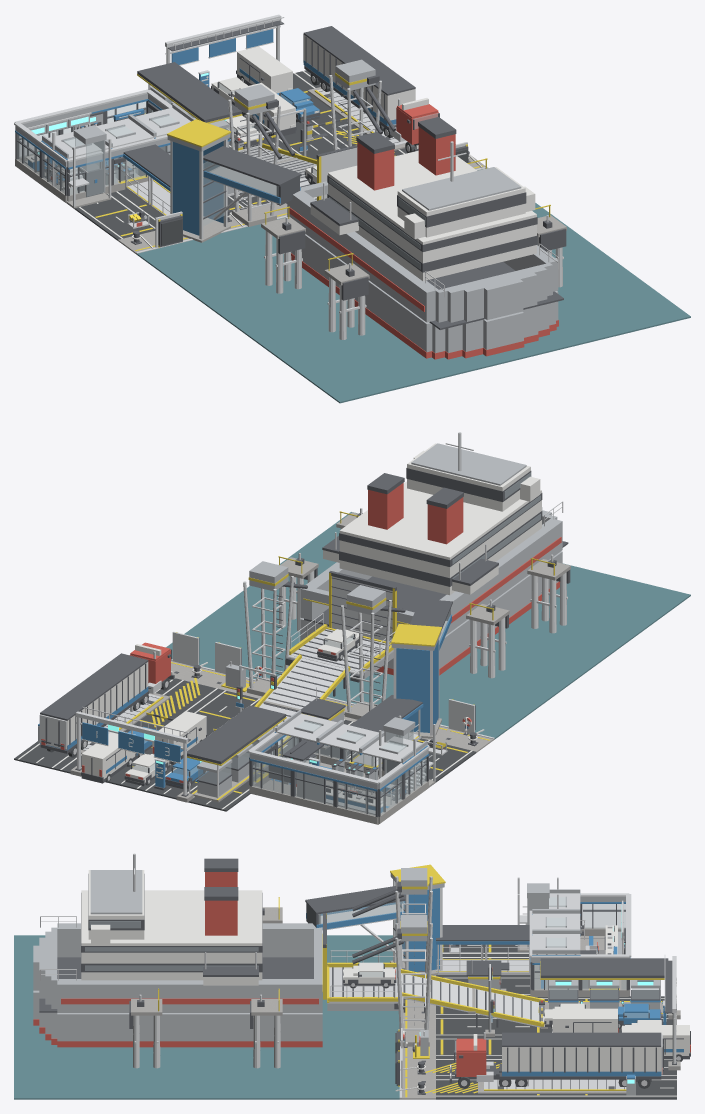
File: ferry-terminal-and-harbour-crossing-ferr-05f91843-starter-scene__35663.glb
3 views of the same model, one above another, from view 1: azimuth 30°, elevation 25°; view 2: azimuth 150°, elevation 25°; view 3: azimuth 270°, elevation 25° (orthographic). The views are drawn at different scales.
Visible parts, largest first — view 1: 096-ferry-terminal-and-harbour-crossing-ro-ro-ferry-stern-se (×6), 090-ferry-terminal-and-harbour-crossing-gangway-tower-and-wa (×5), 003-ferry-terminal-and-harbour-crossing-harbour-water-tile/0, 015-ferry-terminal-and-harbour-crossing-harbour-water-tile/0, 000-ferry-terminal-and-harbour-crossing-harbour-water-tile/0, 001-ferry-terminal-and-harbour-crossing-harbour-water-tile/0, 002-ferry-terminal-and-harbour-crossing-harbour-water-tile/0, 081-ferry-terminal-and-harbour-crossing-lift-and-stair-core/ (×4), 094-ferry-terminal-and-harbour-crossing-linkspan-hydraulic-t (×3), 113-ferry-terminal-and-harbour-crossing-check-in-booth-run/3, 128-ferry-terminal-and-harbour-crossing-freight-trailer/0, 014-ferry-terminal-and-harbour-crossing-harbour-water-tile/0 (+22 smaller); view 2: 096-ferry-terminal-and-harbour-crossing-ro-ro-ferry-stern-se (×6), 090-ferry-terminal-and-harbour-crossing-gangway-tower-and-wa (×4), 003-ferry-terminal-and-harbour-crossing-harbour-water-tile/0, 002-ferry-terminal-and-harbour-crossing-harbour-water-tile/0, 001-ferry-terminal-and-harbour-crossing-harbour-water-tile/0, 128-ferry-terminal-and-harbour-crossing-freight-trailer/0, 113-ferry-terminal-and-harbour-crossing-check-in-booth-run/3, 000-ferry-terminal-and-harbour-crossing-harbour-water-tile/0, 094-ferry-terminal-and-harbour-crossing-linkspan-hydraulic-t (×2), 095-ferry-terminal-and-harbour-crossing-linkspan-hydraulic-t (×2), 013-ferry-terminal-and-harbour-crossing-harbour-water-tile/0, 012-ferry-terminal-and-harbour-crossing-harbour-water-tile/0 (+38 smaller); view 3: 096-ferry-terminal-and-harbour-crossing-ro-ro-ferry-stern-se (×6), 090-ferry-terminal-and-harbour-crossing-gangway-tower-and-wa (×4), 015-ferry-terminal-and-harbour-crossing-harbour-water-tile/0, 012-ferry-terminal-and-harbour-crossing-harbour-water-tile/0, 013-ferry-terminal-and-harbour-crossing-harbour-water-tile/0, 014-ferry-terminal-and-harbour-crossing-harbour-water-tile/0, 128-ferry-terminal-and-harbour-crossing-freight-trailer/0, 128-ferry-terminal-and-harbour-crossing-freight-trailer/1, 113-ferry-terminal-and-harbour-crossing-check-in-booth-run/3, 008-ferry-terminal-and-harbour-crossing-harbour-water-tile/0, 095-ferry-terminal-and-harbour-crossing-linkspan-hydraulic-t (×3), 094-ferry-terminal-and-harbour-crossing-linkspan-hydraulic-t (×3) (+43 smaller).
Boxes of the visible parts, x1,y1,x2,y2 form: 096-ferry-terminal-and-harbour-crossing-ro-ro-ferry-stern-se (×6): [287, 117, 563, 359]; 090-ferry-terminal-and-harbour-crossing-gangway-tower-and-wa (×5): [167, 119, 301, 239]; 003-ferry-terminal-and-harbour-crossing-harbour-water-tile/0: [289, 343, 427, 403]; 015-ferry-terminal-and-harbour-crossing-harbour-water-tile/0: [558, 279, 690, 338]; 000-ferry-terminal-and-harbour-crossing-harbour-water-tile/0: [137, 232, 275, 291]; 001-ferry-terminal-and-harbour-crossing-harbour-water-tile/0: [188, 269, 325, 328]; 002-ferry-terminal-and-harbour-crossing-harbour-water-tile/0: [238, 306, 376, 365]; 081-ferry-terminal-and-harbour-crossing-lift-and-stair-core/ (×4): [52, 123, 111, 206]; 094-ferry-terminal-and-harbour-crossing-linkspan-hydraulic-t (×3): [228, 84, 294, 221]; 113-ferry-terminal-and-harbour-crossing-check-in-booth-run/3: [137, 62, 241, 140]; 128-ferry-terminal-and-harbour-crossing-freight-trailer/0: [303, 26, 415, 130]; 014-ferry-terminal-and-harbour-crossing-harbour-water-tile/0: [552, 242, 639, 297]; 096-ferry-terminal-and-harbour-crossing-ro-ro-ferry-stern-se (×6): [300, 443, 568, 675]; 090-ferry-terminal-and-harbour-crossing-gangway-tower-and-wa (×4): [391, 599, 452, 735]; 003-ferry-terminal-and-harbour-crossing-harbour-water-tile/0: [557, 574, 690, 631]; 002-ferry-terminal-and-harbour-crossing-harbour-water-tile/0: [508, 610, 641, 667]; 001-ferry-terminal-and-harbour-crossing-harbour-water-tile/0: [459, 646, 592, 703]; 128-ferry-terminal-and-harbour-crossing-freight-trailer/0: [40, 653, 149, 753]; 113-ferry-terminal-and-harbour-crossing-check-in-booth-run/3: [187, 705, 285, 785]; 000-ferry-terminal-and-harbour-crossing-harbour-water-tile/0: [439, 681, 543, 739]; 094-ferry-terminal-and-harbour-crossing-linkspan-hydraulic-t (×2): [341, 585, 391, 712]; 095-ferry-terminal-and-harbour-crossing-linkspan-hydraulic-t (×2): [243, 561, 293, 688]; 013-ferry-terminal-and-harbour-crossing-harbour-water-tile/0: [204, 585, 299, 639]; 012-ferry-terminal-and-harbour-crossing-harbour-water-tile/0: [166, 619, 286, 671]; 096-ferry-terminal-and-harbour-crossing-ro-ro-ferry-stern-se (×6): [33, 853, 322, 1047]; 090-ferry-terminal-and-harbour-crossing-gangway-tower-and-wa (×4): [305, 880, 442, 972]; 015-ferry-terminal-and-harbour-crossing-harbour-water-tile/0: [14, 1057, 110, 1099]; 012-ferry-terminal-and-harbour-crossing-harbour-water-tile/0: [303, 1057, 399, 1099]; 013-ferry-terminal-and-harbour-crossing-harbour-water-tile/0: [207, 1057, 303, 1099]; 014-ferry-terminal-and-harbour-crossing-harbour-water-tile/0: [110, 1057, 206, 1099]; 128-ferry-terminal-and-harbour-crossing-freight-trailer/0: [499, 1032, 663, 1081]; 128-ferry-terminal-and-harbour-crossing-freight-trailer/1: [502, 1047, 661, 1071]; 113-ferry-terminal-and-harbour-crossing-check-in-booth-run/3: [540, 958, 668, 1003]; 008-ferry-terminal-and-harbour-crossing-harbour-water-tile/0: [303, 1016, 399, 1057]; 095-ferry-terminal-and-harbour-crossing-linkspan-hydraulic-t (×3): [352, 915, 432, 1041]; 094-ferry-terminal-and-harbour-crossing-linkspan-hydraulic-t (×3): [352, 868, 432, 974].
Bounding box in the file's own units: 32.22 × 15 × 56.17.
12 materials, 1 textured.
